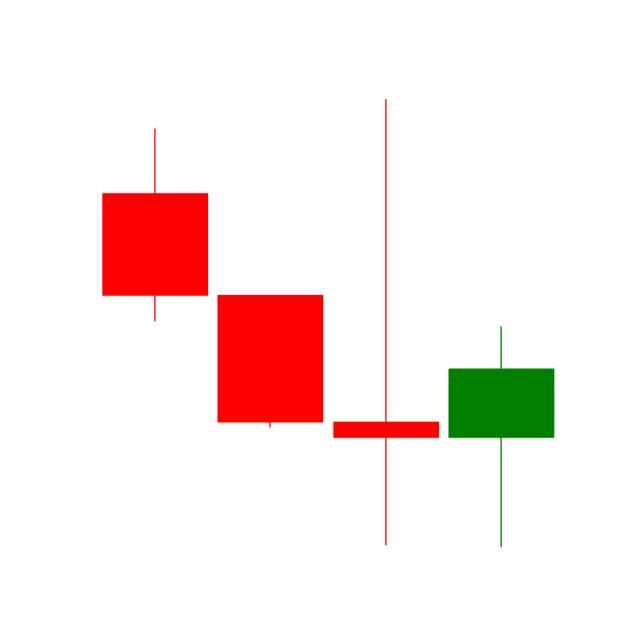Spinning Top: (328, 93, 444, 550)
